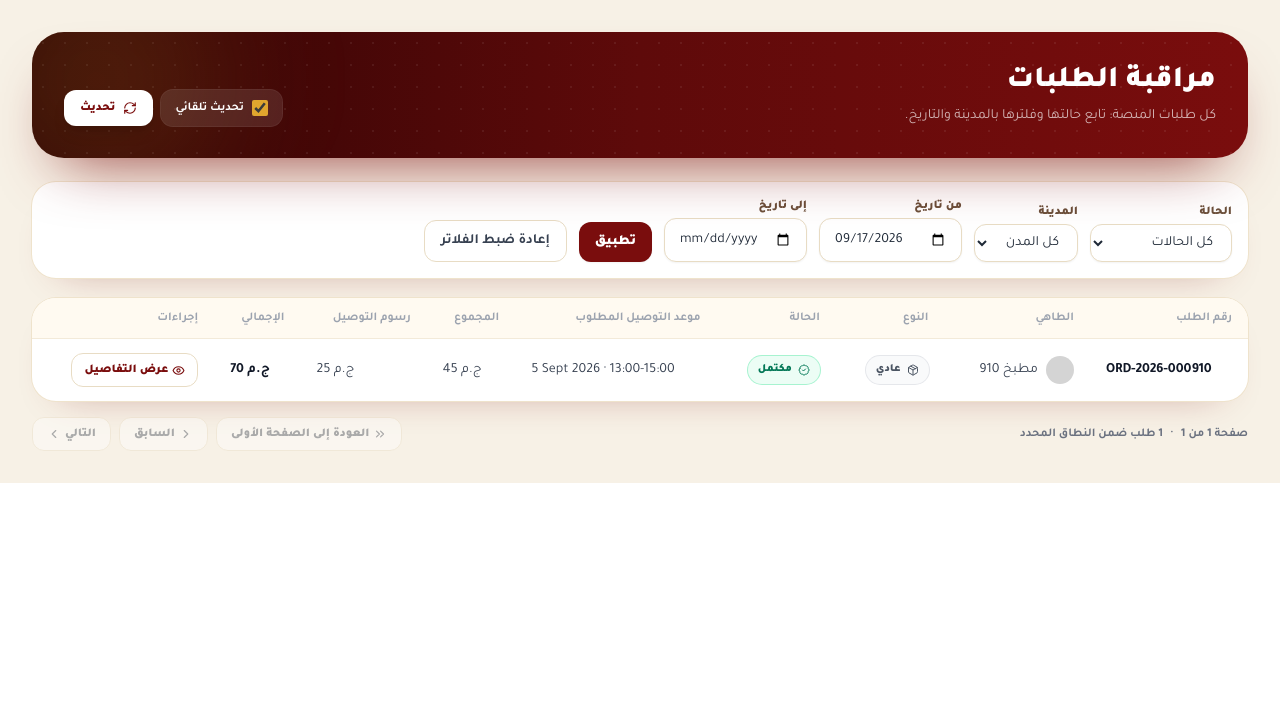
Test case: US3 — inspect one order in detail › a failed detail fetch keeps the list copy and offers a retry
Expected: the text "ORD-2026-000910" is shown, [1090,338,1248,401]
Click the button "عرض التفاصيل": (135, 370) [71,353,198,387]
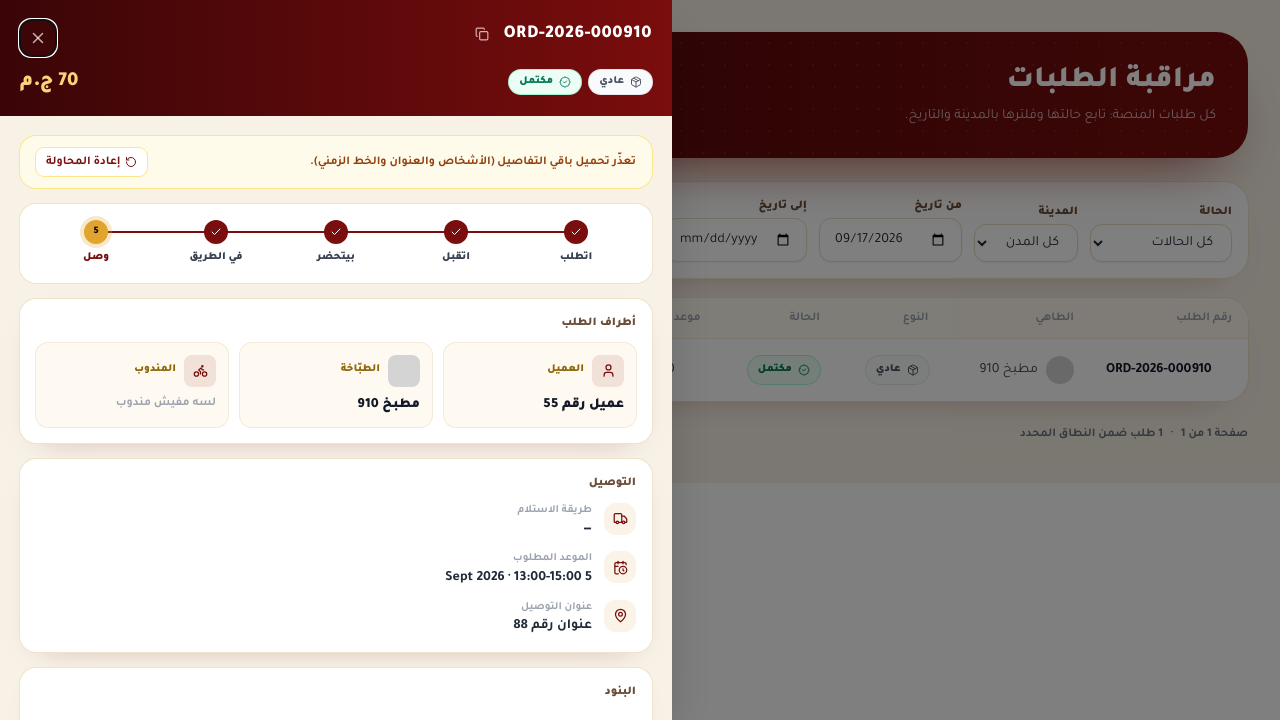
Expected: the text "تعذّر تحميل باقي التفاصيل (الأشخاص والعنوان والخط الزمني)." is shown, [310,156,636,168]
Click the button "إعادة المحاولة": (91, 162) [36,148,146,176]
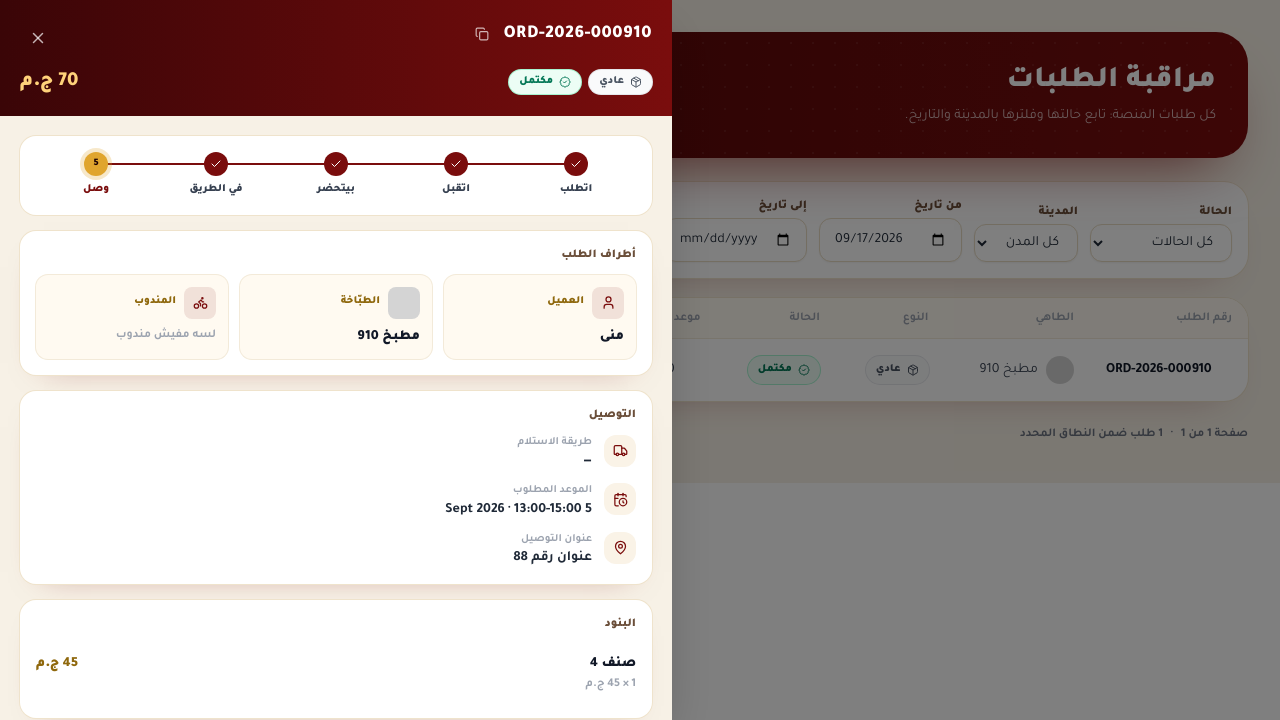
Expected: the text "منى" is shown, [600,330,624,344]
